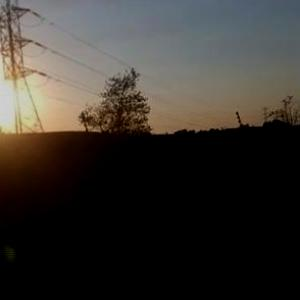follow: (107, 134, 179, 299)
